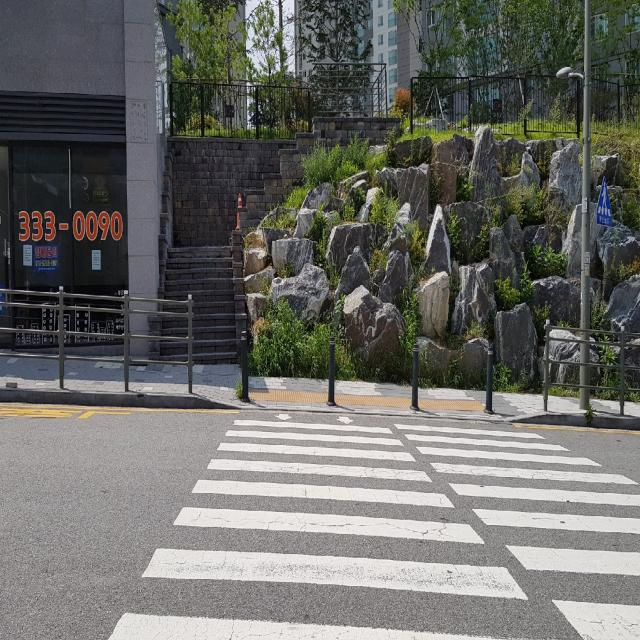횡단보도: (104, 411, 640, 640)
